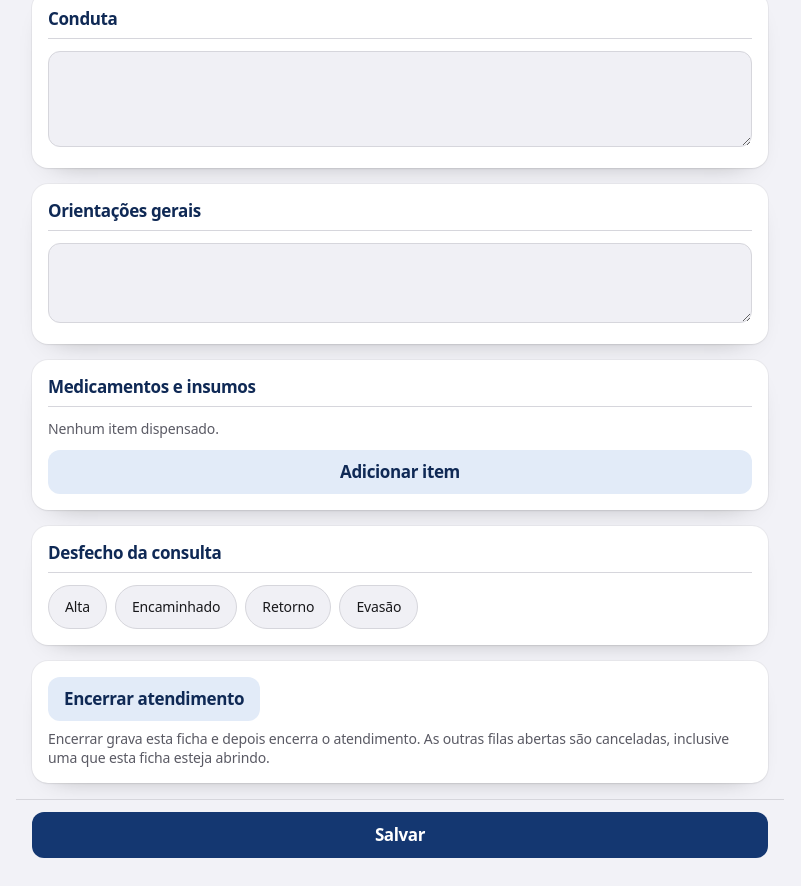
Test: alta a partir da consulta › não encerra quando a ficha é recusada
(page scrolled)
Click the button "Encerrar atendimento" at (154, 698), box [48,676,260,720]
(page scrolled)
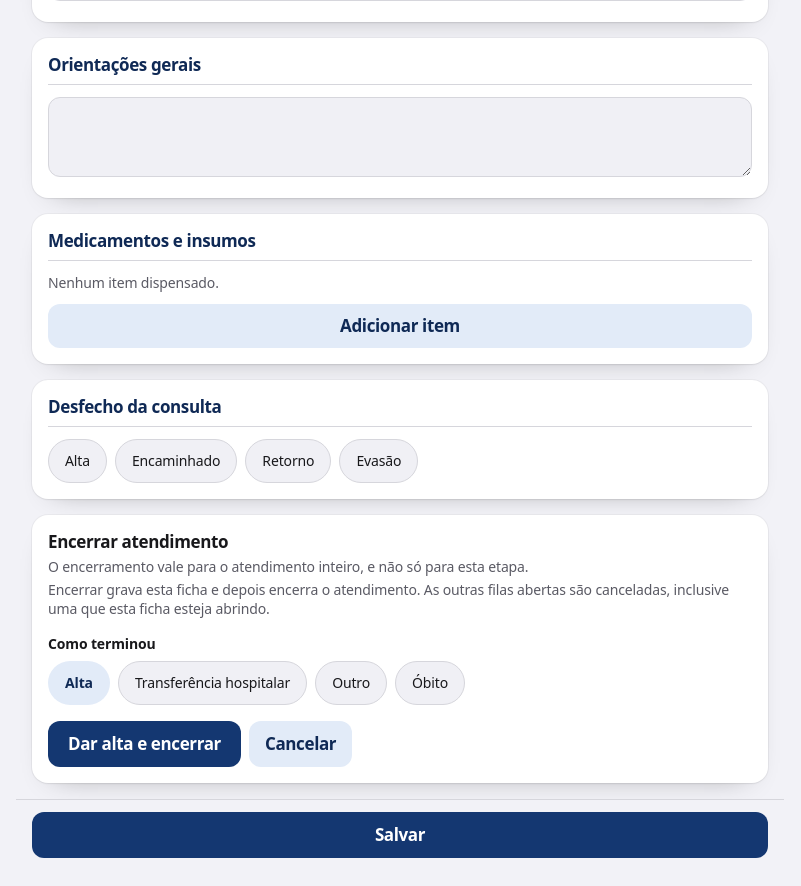
Click the button "Dar alta e encerrar" at (144, 744), box [48,720,241,766]
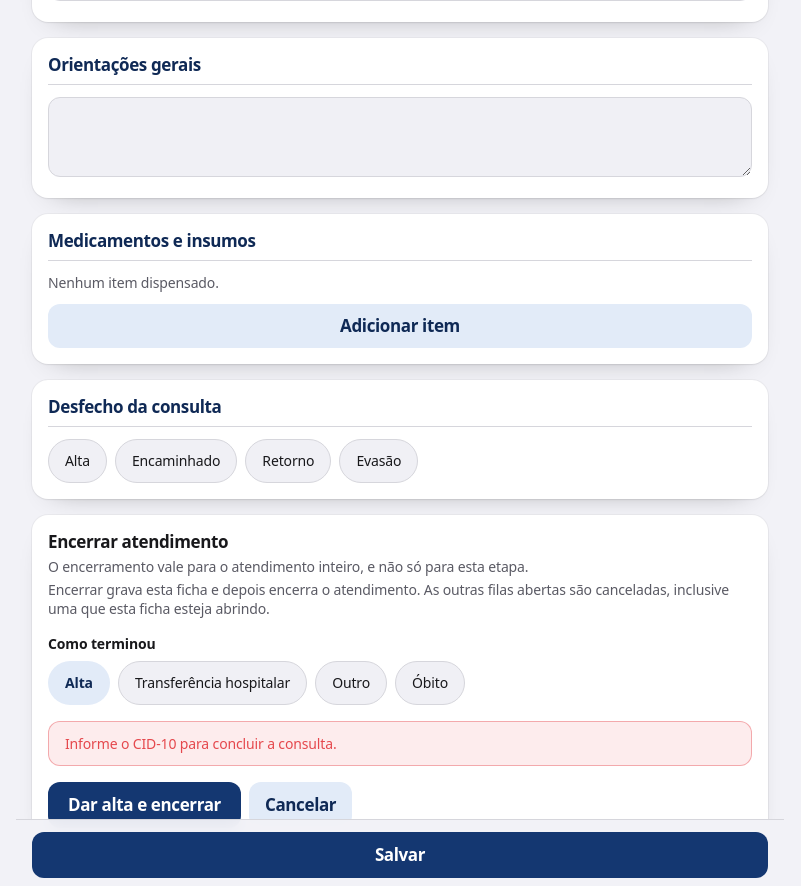
Expected: the text "Informe o CID-10 para concluir a consulta." is shown, [48,720,752,766]
